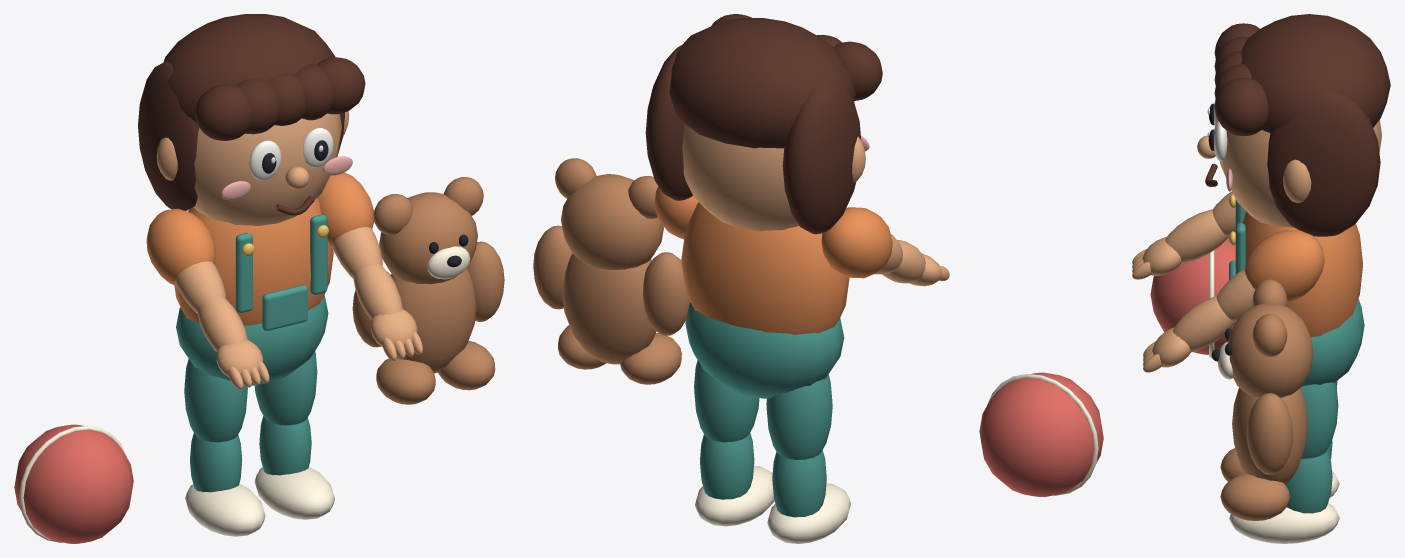
File: ava-need-want.glb
3 views of the same model, side by side, from view 1: azimuth 30°, elevation 25°; view 2: azimuth 150°, elevation 25°; view 3: azimuth 270°, elevation 25° (orthographic). The views are drawn at different scales.
Parts seen in each view (by area): view 1: ball, hair cap, clay head, soft shirt, bob hair, bear head, bear tummy, overalls, trouser leg, shirt sleeve, little shoe, little shoe.001 (+29 smaller); view 2: hair cap, soft shirt, ball, overalls, bob hair, clay head, bear tummy, bear head, trouser leg, bob hair.001, shirt sleeve, trouser leg.001 (+14 smaller); view 3: bob hair.001, hair cap, soft shirt, bear head, shirt sleeve.001, ball, clay head, bear arm.001, bear tummy, overalls, little shoe.001, fringe.004 (+21 smaller).
Part boxes in pixels (x1=…): ball: x1=14, y1=424, x2=133, y2=543; hair cap: x1=163, y1=14, x2=335, y2=122; clay head: x1=193, y1=113, x2=341, y2=225; soft shirt: x1=174, y1=198, x2=333, y2=325; bob hair: x1=138, y1=61, x2=199, y2=210; bear head: x1=379, y1=192, x2=477, y2=284; bear tummy: x1=391, y1=268, x2=476, y2=373; overalls: x1=176, y1=295, x2=328, y2=385; trouser leg: x1=184, y1=359, x2=247, y2=442; shirt sleeve: x1=146, y1=208, x2=216, y2=285; little shoe: x1=185, y1=483, x2=265, y2=536; little shoe.001: x1=254, y1=467, x2=334, y2=519; hair cap: x1=669, y1=18, x2=855, y2=148; soft shirt: x1=681, y1=202, x2=849, y2=334; ball: x1=979, y1=372, x2=1103, y2=496; overalls: x1=685, y1=302, x2=844, y2=398; bob hair: x1=782, y1=81, x2=861, y2=234; clay head: x1=682, y1=124, x2=799, y2=231; bear tummy: x1=562, y1=253, x2=656, y2=364; bear head: x1=561, y1=174, x2=663, y2=269; trouser leg: x1=766, y1=374, x2=832, y2=459; bob hair.001: x1=645, y1=45, x2=692, y2=200; shirt sleeve: x1=821, y1=207, x2=892, y2=278; trouser leg.001: x1=694, y1=360, x2=759, y2=442; bob hair.001: x1=1267, y1=91, x2=1380, y2=236; hair cap: x1=1241, y1=14, x2=1390, y2=133; soft shirt: x1=1235, y1=211, x2=1362, y2=337; bear head: x1=1227, y1=303, x2=1313, y2=397; shirt sleeve.001: x1=1244, y1=229, x2=1324, y2=302; ball: x1=1150, y1=237, x2=1235, y2=354; clay head: x1=1219, y1=119, x2=1381, y2=227; bear arm.001: x1=1246, y1=393, x2=1293, y2=474; bear tummy: x1=1232, y1=387, x2=1307, y2=484; overalls: x1=1302, y1=299, x2=1364, y2=386; little shoe.001: x1=1229, y1=503, x2=1339, y2=543; fringe.004: x1=1214, y1=77, x2=1268, y2=136.
Bounding box in the file's own units: 2.06 × 1.87 × 0.8879.
